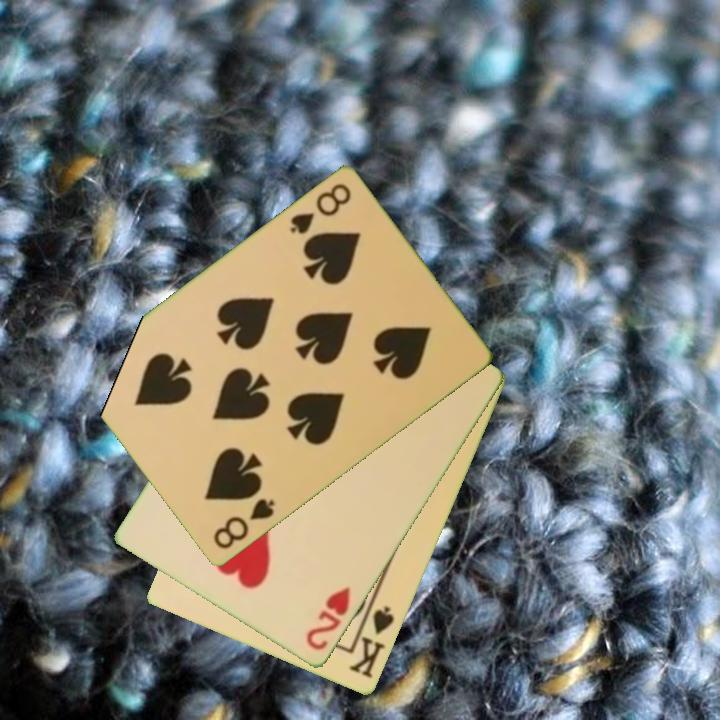2h: (302, 584, 354, 654)
8s: (209, 495, 278, 553), (285, 180, 354, 238)
Ks: (346, 603, 398, 682)
